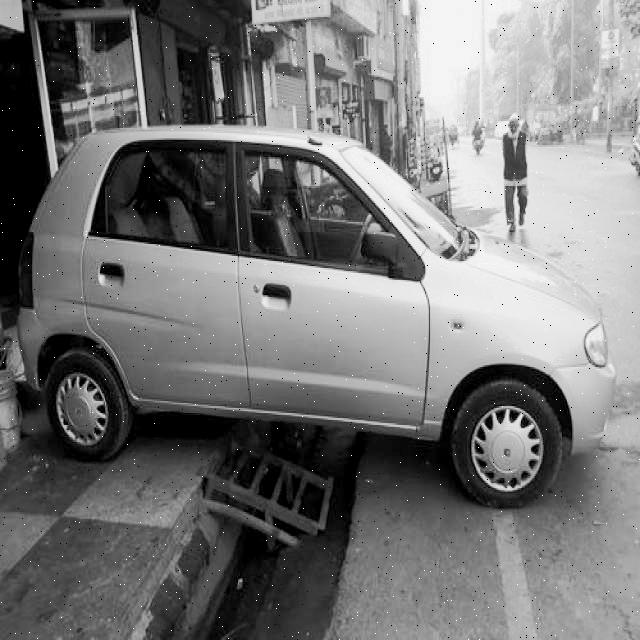Car: (7, 117, 627, 514)
